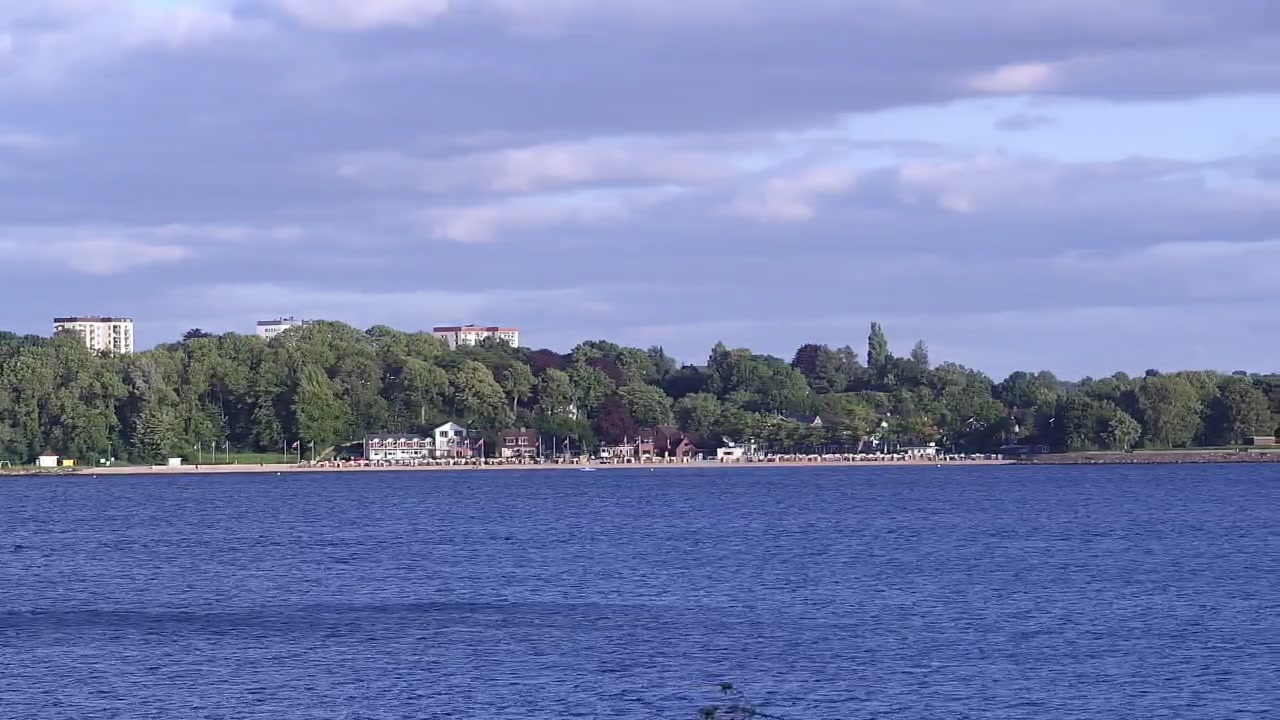sea: (576, 466, 596, 471)
